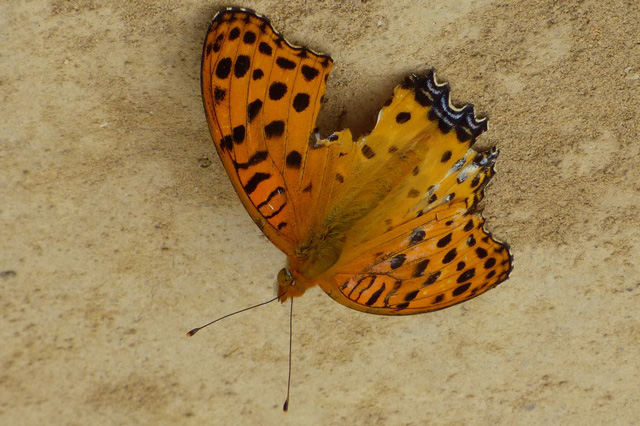Argyreus hyperbius: (183, 3, 516, 411)
butterfly: (185, 5, 518, 413)
